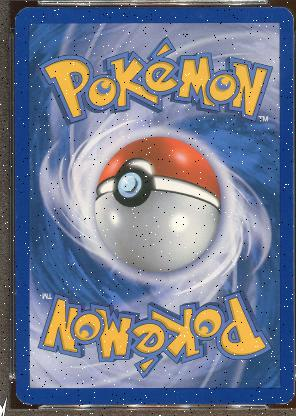Card: (11, 5, 293, 407)
Corner Wear: (269, 389, 293, 405), (13, 390, 33, 406), (13, 6, 28, 24)
